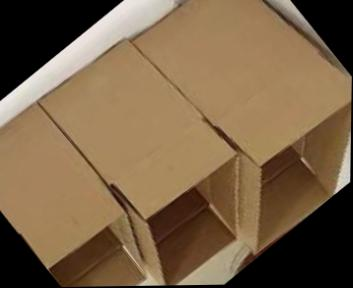cardboard: (0, 0, 352, 285)
